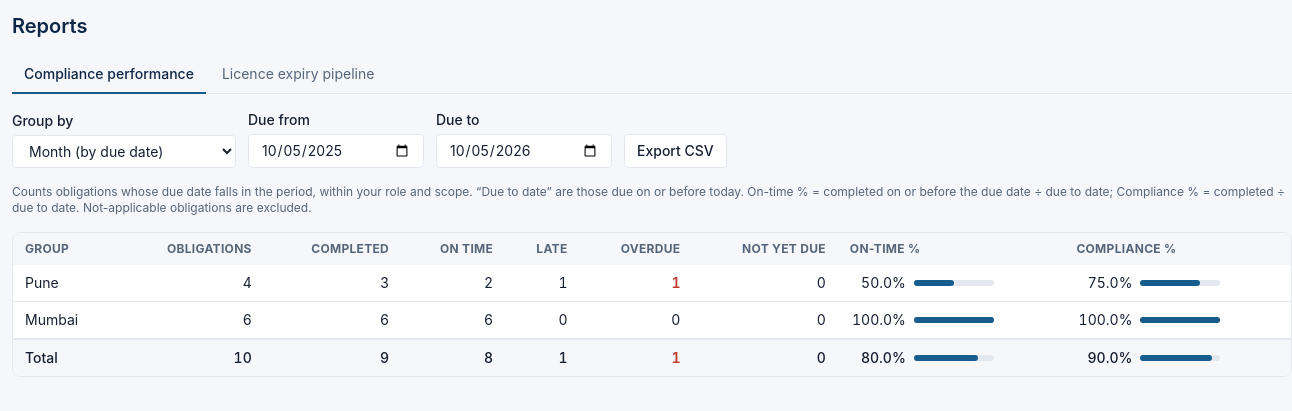
Reports › an invalid period is explained and nothing is queried
Expected: the text "Pune" is shown, [13,265,117,302]
In the date field labelled "Due from": coordinates (336, 151) [248,134,424,168], type "2999-01-01"
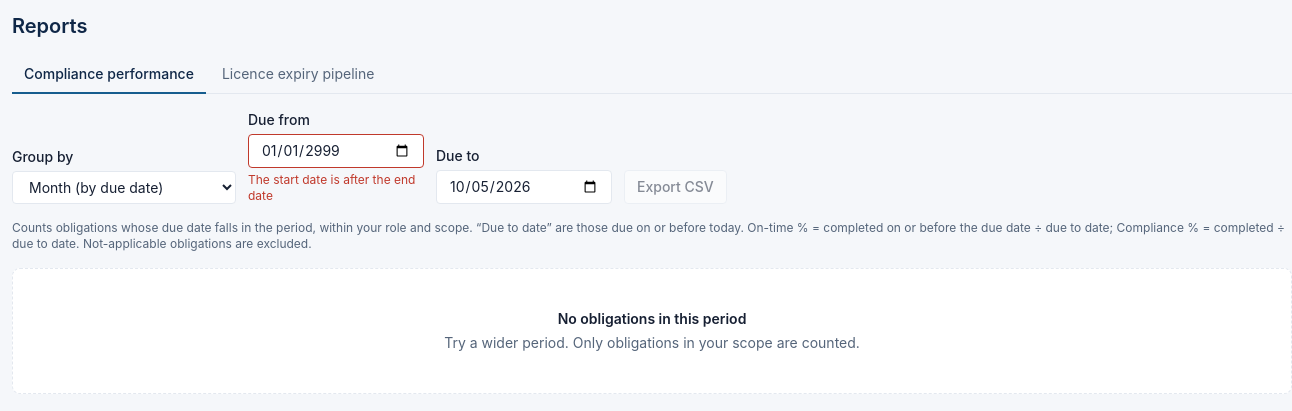
Now the text "The start date is after the end date" is shown, box [248,172,424,204]
